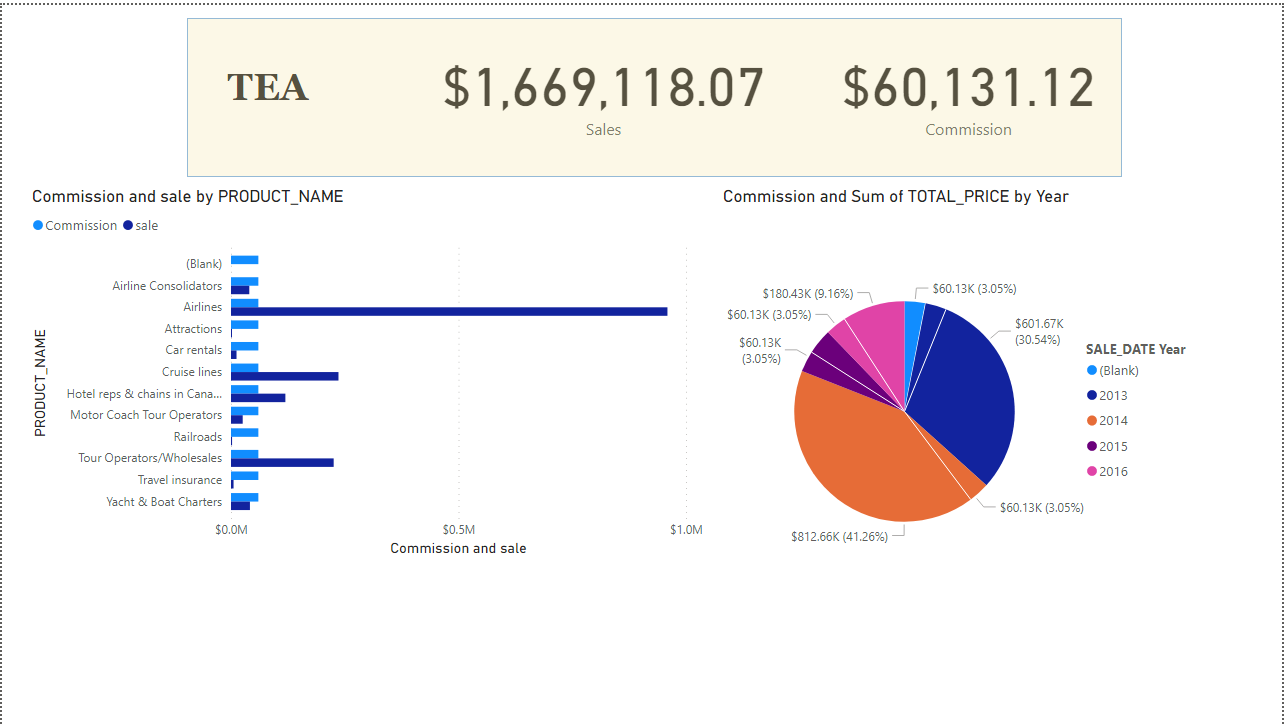

Layout of this report page (visuals, bound fields, positions):
{"tool":"powerbi","page":{"name":"Page 1","canvas":[1280,720],"ordinal":0},"visuals":[{"type":"textbox","box":[118.7,55.8,294,74.4],"z":0},{"type":"card","fields":{"Values":["COMMISSION.sale"]},"box":[427.7,27.5,347.2,115.1],"z":500},{"type":"card","fields":{"Values":["BOOKING.Commission"]},"box":[813,27.5,307.3,115.1],"z":750},{"type":"shape","box":[185.1,13.3,935.2,158.5],"z":1000},{"type":"clusteredBarChart","fields":{"Y":["BOOKING.Commission","COMMISSION.sale"],"Category":["PRODUCT.PRODUCT_NAME"]},"box":[24.8,180.7,681,375.5],"z":4000},{"type":"pieChart","fields":{"Category":["SALE.SALE_DATE.Variation.Date Hierarchy.Year","SALE.SALE_DATE.Variation.Date Hierarchy.Quarter","SALE.SALE_DATE.Variation.Date Hierarchy.Month"],"Y":["BOOKING.Commission","Sum(BOOKING.TOTAL_PRICE)"]},"box":[715.6,180.7,473.8,363.1],"z":4001}]}

Visuals, with their boxes in screenshot pixels (x1, y1, x2, y2), scaled from the page's 1280x720 canvas onto the 1284x725 screenshot:
textbox: pyautogui.locateOnScreen(119, 56, 414, 131)
card - COMMISSION.sale: pyautogui.locateOnScreen(429, 28, 777, 144)
card - BOOKING.Commission: pyautogui.locateOnScreen(816, 28, 1124, 144)
shape: pyautogui.locateOnScreen(186, 13, 1124, 173)
clusteredBarChart - BOOKING.Commission x COMMISSION.sale: pyautogui.locateOnScreen(25, 182, 708, 560)
pieChart - SALE.SALE_DATE.Variation.Date Hierarchy.Year x SALE.SALE_DATE.Variation.Date Hierarchy.Quarter: pyautogui.locateOnScreen(718, 182, 1193, 548)
